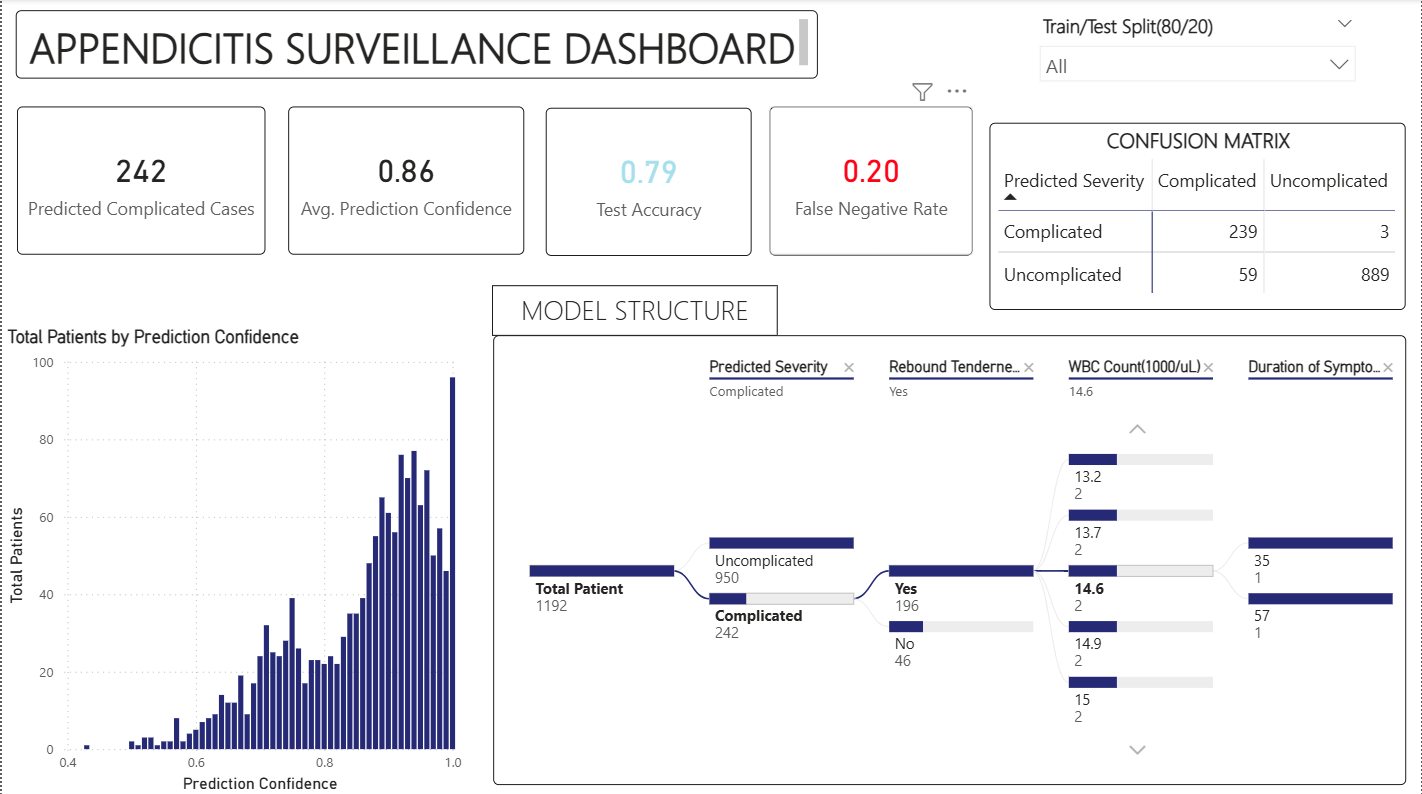

What the dashboard file says about the page in this screenshot:
{"tool":"powerbi","page":{"name":"Model Validation & Architecture","canvas":[1280,720],"ordinal":3},"visuals":[{"type":"pivotTable","title":"CONFUSION MATRIX","fields":{"Columns":["appendicitis_comprehensive_data.Severity"],"Values":["CountNonNull(appendicitis_comprehensive_data.Patient_ID)"],"Rows":["appendicitis_comprehensive_data.Predicted_Severity"]},"box":[890.2,111.3,375.4,168.8],"z":0},{"type":"card","fields":{"Values":["CountNonNull(appendicitis_comprehensive_data.Predicted_Severity)"]},"box":[13.5,96.6,223.8,133.3],"z":1000},{"type":"card","fields":{"Values":["Avg(appendicitis_comprehensive_data.Prediction_Confidence)"]},"box":[258,96.6,212.8,133.3],"z":2000},{"type":"decompositionTreeVisual","fields":{"Analyze":["CountNonNull(appendicitis_comprehensive_data.Patient_ID)"],"ExplainBy":["appendicitis_comprehensive_data.Predicted_Severity","appendicitis_comprehensive_data.Rebound_Tenderness","appendicitis_comprehensive_data.WBC_Count_k_uL","appendicitis_comprehensive_data.Duration_of_Symptoms_Hours"]},"box":[442.7,303.3,823,406],"z":3000},{"type":"slicer","fields":{"Values":["appendicitis_comprehensive_data.Data_Split"]},"box":[925,8.3,305,81.7],"z":4000},{"type":"textbox","box":[12.9,10,722.9,61.4],"z":5000},{"type":"card","fields":{"Values":["appendicitis_comprehensive_data.Test Accuracy %"]},"box":[490.4,97.8,185.9,133.3],"z":6000},{"type":"textbox","box":[442.3,257.9,257.9,45.4],"z":7000},{"type":"columnChart","fields":{"Y":["CountNonNull(appendicitis_comprehensive_data.Patient_ID)"],"Category":["appendicitis_comprehensive_data.Prediction_Confidence"]},"box":[0,293.9,420.9,426.2],"z":8000},{"type":"card","fields":{"Values":["appendicitis_comprehensive_data.False Negative Rate %"]},"box":[692.1,96.6,183.4,134.5],"z":9000}]}

Visuals, with their boxes in screenshot pixels (x1, y1, x2, y2), scaled from the page's 1280x720 canvas onto the 1422x794 screenshot:
"CONFUSION MATRIX" pivotTable: [left=989, top=123, right=1406, bottom=309]
card - CountNonNull(appendicitis_comprehensive_data.Predicted_Severity): [left=15, top=107, right=264, bottom=254]
card - Avg(appendicitis_comprehensive_data.Prediction_Confidence): [left=287, top=107, right=523, bottom=254]
decompositionTreeVisual - CountNonNull(appendicitis_comprehensive_data.Patient_ID) x appendicitis_comprehensive_data.Predicted_Severity: [left=492, top=334, right=1406, bottom=782]
slicer - appendicitis_comprehensive_data.Data_Split: [left=1028, top=9, right=1366, bottom=99]
textbox: [left=14, top=11, right=817, bottom=79]
card - appendicitis_comprehensive_data.Test Accuracy %: [left=545, top=108, right=751, bottom=255]
textbox: [left=491, top=284, right=778, bottom=334]
columnChart - CountNonNull(appendicitis_comprehensive_data.Patient_ID) x appendicitis_comprehensive_data.Prediction_Confidence: [left=0, top=324, right=468, bottom=793]
card - appendicitis_comprehensive_data.False Negative Rate %: [left=769, top=107, right=973, bottom=255]
